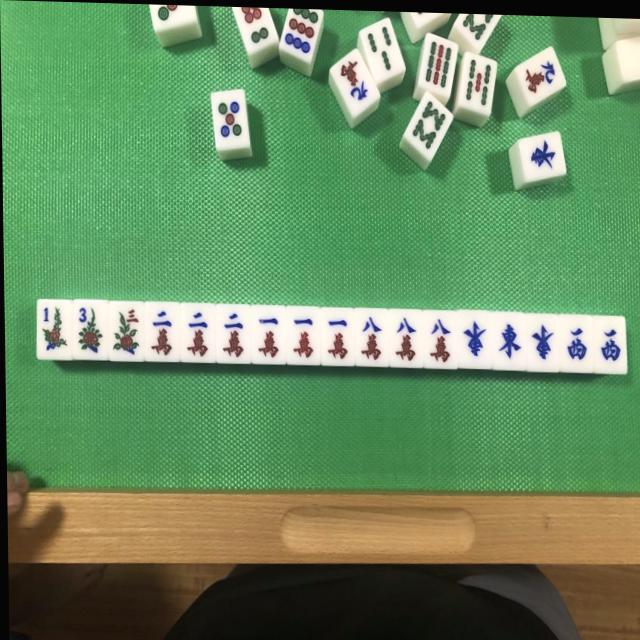1C: (285, 308, 320, 366), (251, 306, 285, 364), (321, 309, 353, 366)
1F: (38, 299, 69, 358)
2C: (215, 305, 250, 363), (144, 304, 180, 360), (181, 304, 215, 362)
3F: (71, 301, 106, 359)
3S: (107, 305, 143, 360)
8C: (354, 309, 388, 367), (388, 309, 422, 366), (423, 312, 456, 369)
EW: (524, 316, 559, 373), (457, 313, 490, 368), (491, 314, 523, 369)
WW: (591, 316, 625, 373), (559, 315, 591, 373)
